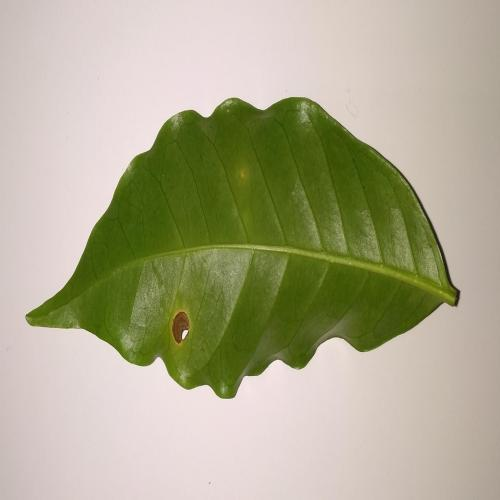cercospora: (172, 311, 190, 343)
